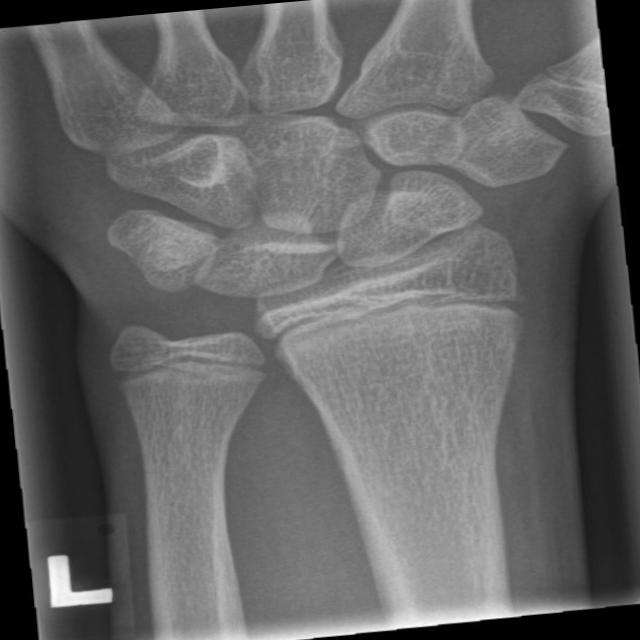fracture: (248, 267, 552, 365), (101, 328, 287, 404)
